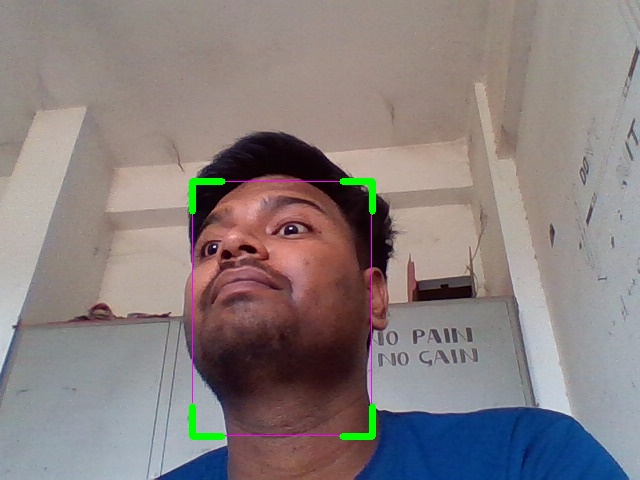real: (192, 181, 372, 436)
